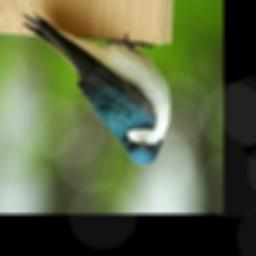Swallow: (18, 11, 172, 166)
